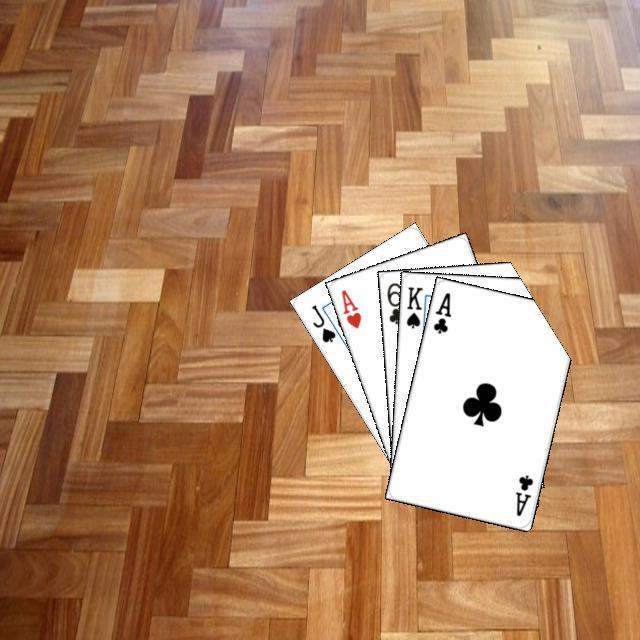6c: (382, 278, 405, 326)
Ac: (428, 287, 453, 335), (510, 470, 535, 518)
Ah: (336, 285, 363, 330)
Js: (306, 300, 338, 344)
Ks: (401, 282, 424, 330)
